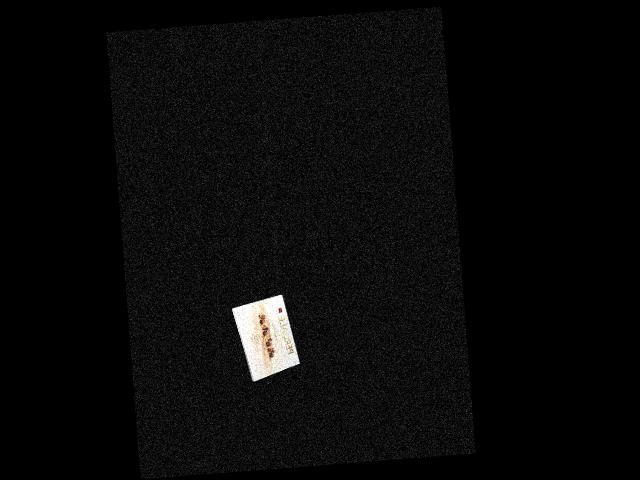chocolate: (228, 296, 299, 379)
